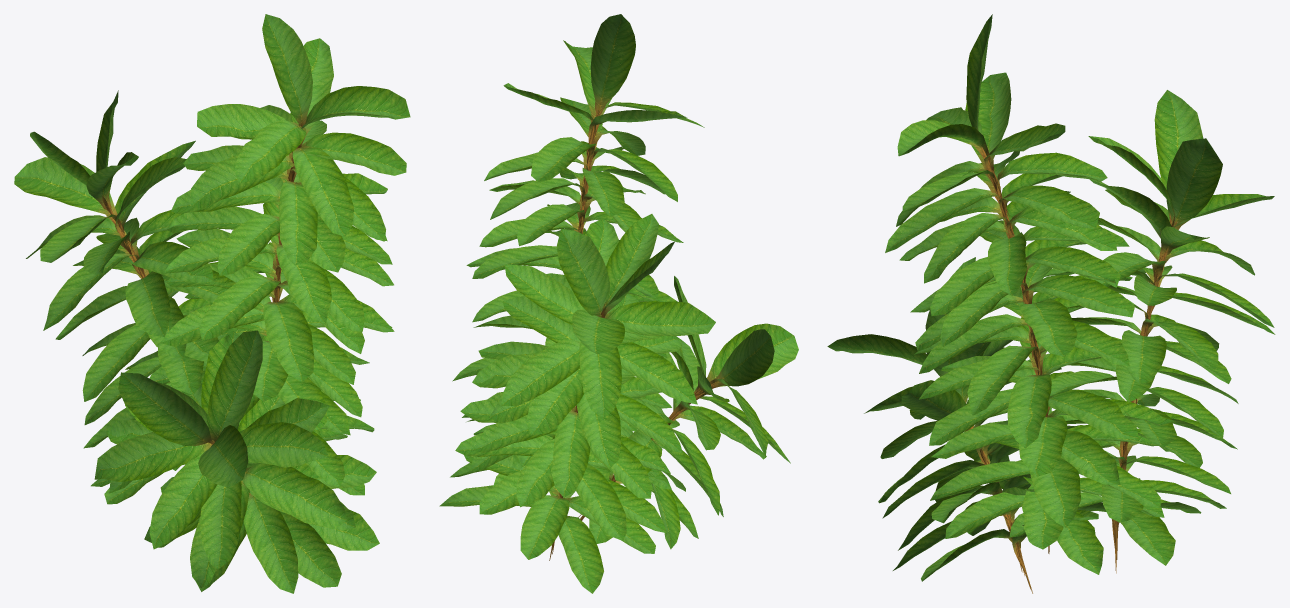
The picture shows the model from 3 angles, left to right: view 1: azimuth 30°, elevation 25°; view 2: azimuth 150°, elevation 25°; view 3: azimuth 270°, elevation 25°; orthographic projection. The views are drawn at different scales.
Parts seen in each view (by area): view 1: Plant; view 2: Plant; view 3: Plant.
Boxes of the visible parts, left/top/right/bottom form: Plant: left=14, top=14, right=410, bottom=593; Plant: left=439, top=14, right=798, bottom=593; Plant: left=827, top=14, right=1275, bottom=593.
Bounding box in the file's own units: 20.84 × 36.09 × 26.15.
